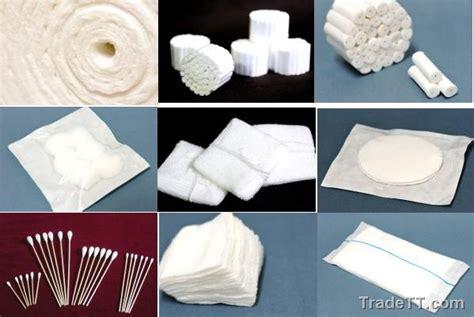cotton: (0, 0, 158, 105), (160, 214, 264, 310), (331, 226, 453, 302), (190, 117, 284, 200), (324, 0, 412, 75), (158, 140, 231, 207), (44, 126, 120, 189), (248, 123, 316, 191), (358, 135, 443, 184), (180, 44, 232, 94), (409, 51, 457, 100), (270, 37, 311, 77), (232, 39, 271, 76), (249, 8, 290, 42), (171, 35, 210, 69)
